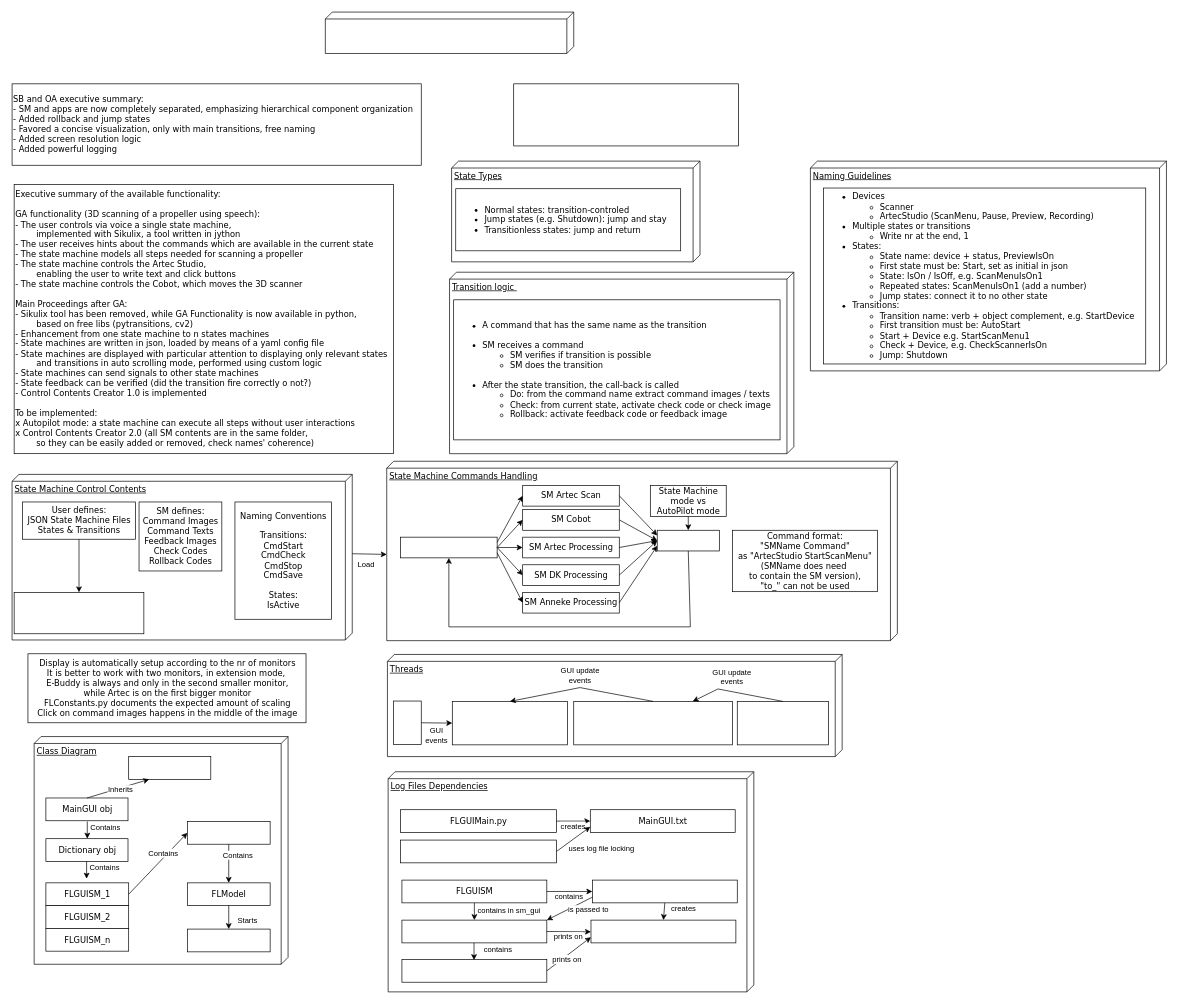
The diagram is 1179 pixels wide and 1004 high, and some of its shapes have lost their labels. Here are the shapes that lost their labels. From the top down, the centre of each, then its label:
the point at 449,32: E-Buddy
the point at 626,114: To be inserted: Confirmation: vocal / autopilot mode
the point at 448,547: Commands Queue
the point at 688,540: Command Files
the point at 78,613: Into YAML File u ser defines: SM to be loaded into Teachix
the point at 407,722: User
the point at 510,723: Main GUI thread FLGUIMain class GUI_ main_event_loop has to stay in main thread
the point at 652,723: Thread FLGUIMain class GUI_main_SM_commands_execute
the point at 782,723: callback_after_ state_change 1) Do transition 2) Do feedback
the point at 169,767: FLBaseClass
the point at 228,832: GraphMachine
the point at 478,851: GUI_main_SM_commands_execute
the point at 664,891: FLLogFile
the point at 228,940: callback_after_ state_change
the point at 474,931: FLGraphMachine.py is recreated at each change
the point at 663,931: SM_n Log File
the point at 474,970: Callback FLModel
